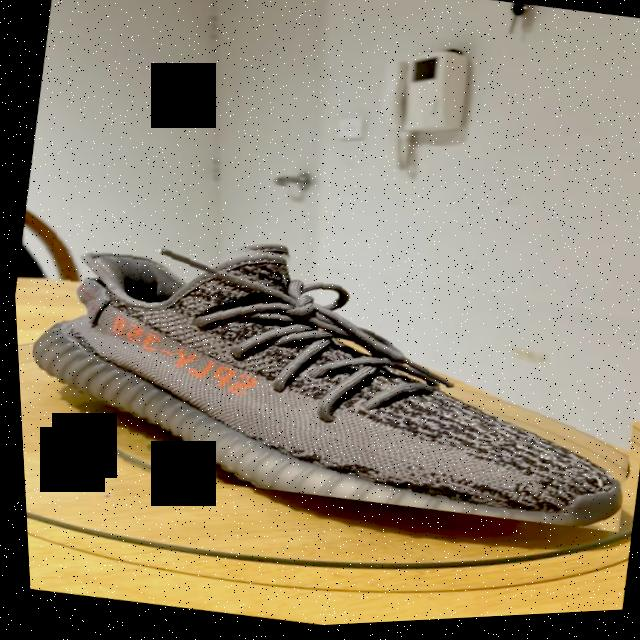shoe: (9, 189, 640, 563)
